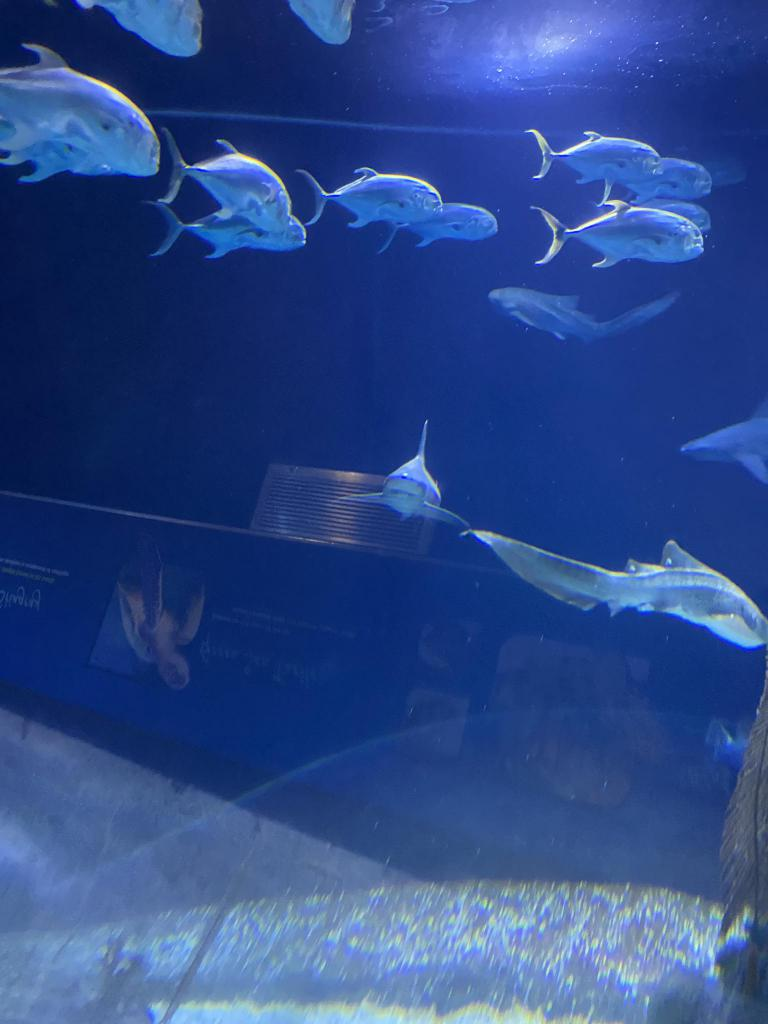fish: (0, 45, 138, 167), (162, 126, 292, 230), (530, 200, 706, 270), (18, 102, 160, 182), (143, 198, 309, 260), (296, 166, 443, 230), (76, 0, 206, 61), (525, 128, 661, 184), (374, 203, 498, 253), (596, 155, 712, 201), (287, 0, 360, 45)
shark: (465, 530, 767, 648), (338, 418, 472, 540), (492, 288, 678, 340), (684, 400, 768, 488)
